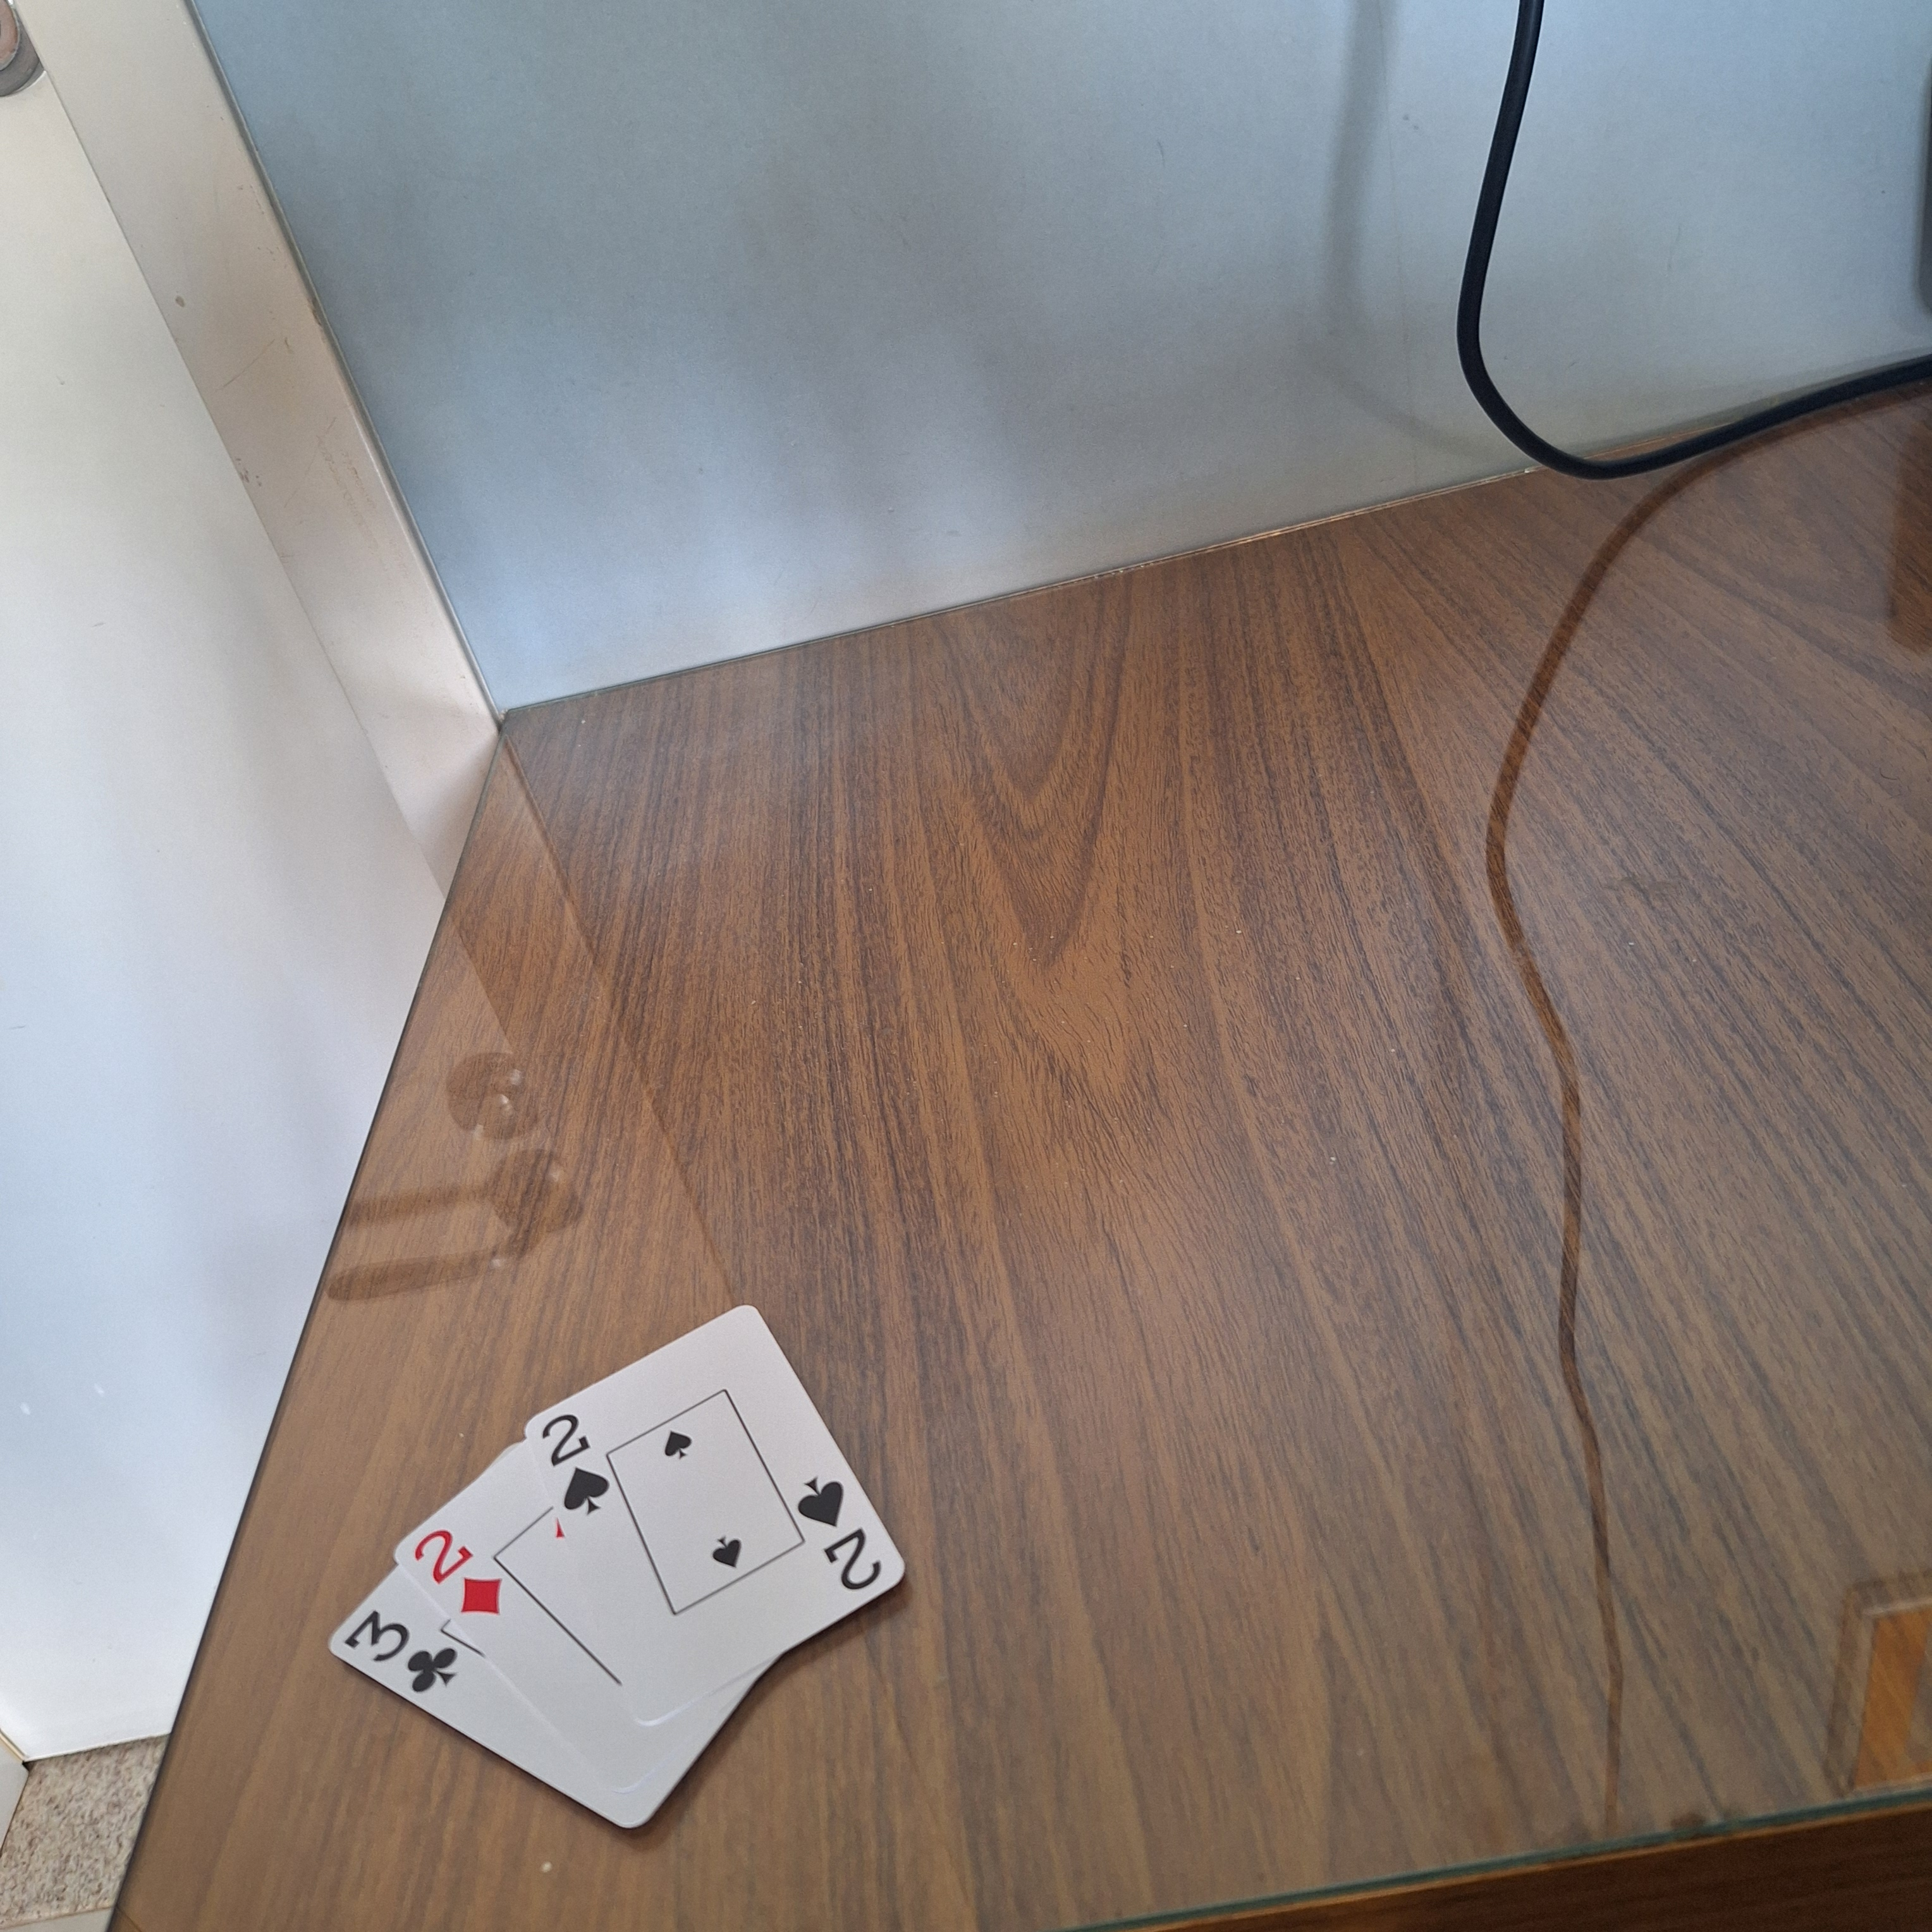2E: (791, 1472, 888, 1598), (533, 1403, 617, 1525)
2O: (407, 1523, 508, 1622)
3P: (340, 1599, 462, 1697)
